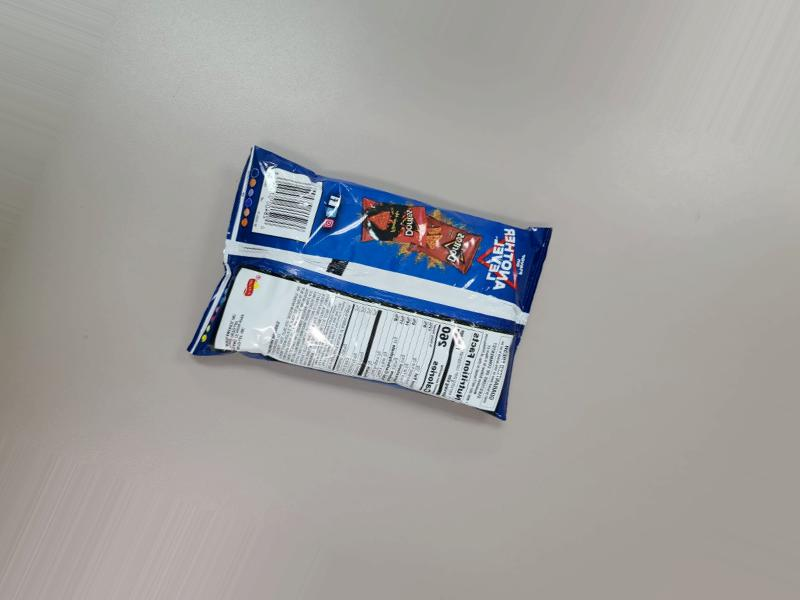doritos: (159, 179, 527, 437)
